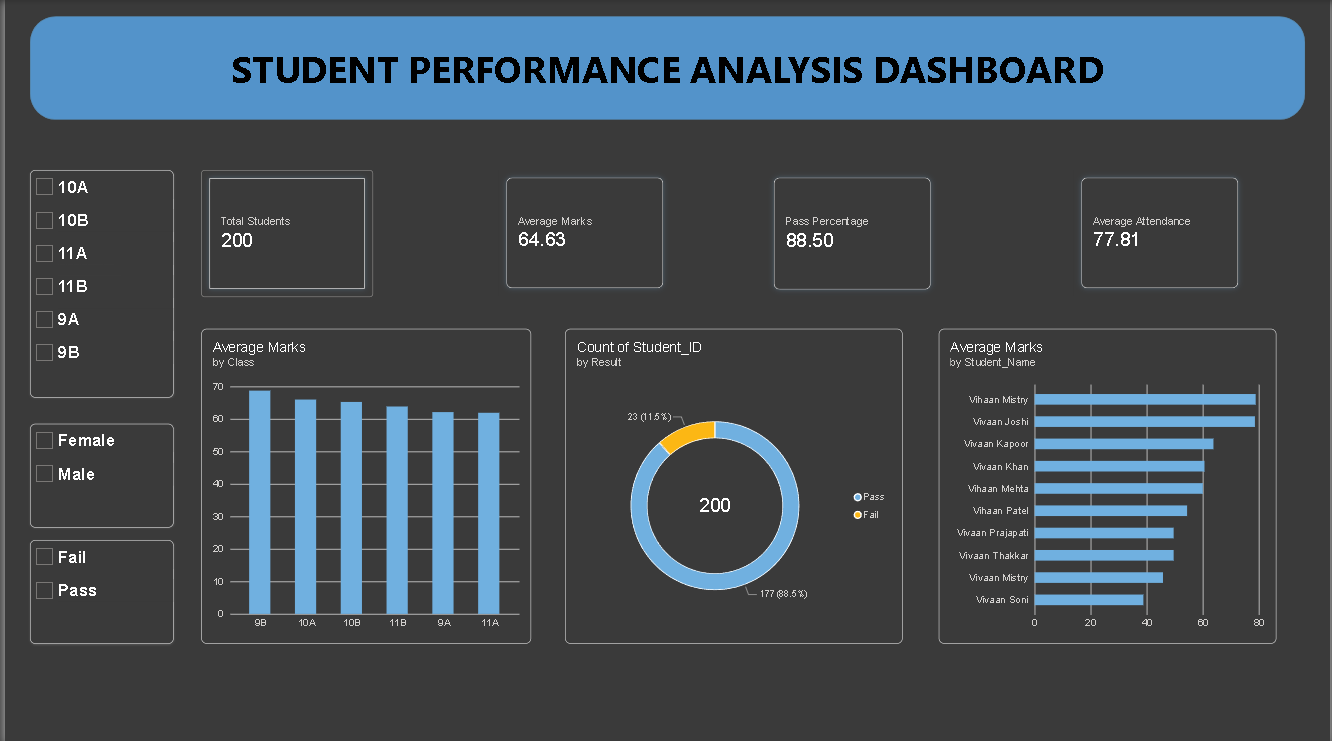

This screenshot's page, from the dashboard's own definition file:
{"tool":"powerbi","page":{"name":"Page 3","canvas":[1920,1080],"ordinal":2},"visuals":[{"type":"shape","box":[36.2,23.5,1846,150],"z":0},{"type":"cardVisual","fields":{"Data":["Student_Data.Total Students"]},"box":[284.1,246.1,249.7,184.6],"z":1000},{"type":"cardVisual","fields":{"Data":["Student_Data.Average Marks"]},"box":[714.8,246.1,249.7,182.8],"z":2000},{"type":"cardVisual","fields":{"Data":["Student_Data.Pass Percentage"]},"box":[1102.1,246.1,249.7,184.6],"z":3000},{"type":"cardVisual","fields":{"Data":["Student_Data.Average Attendance"]},"box":[1547.3,246.1,249.7,182.8],"z":4000},{"type":"clusteredColumnChart","fields":{"Category":["Student_Data.Class"],"Y":["Student_Data.Average Marks"]},"box":[284.1,475.9,477.8,456],"z":5000},{"type":"donutChart","fields":{"Category":["Student_Data.Result"],"Y":["CountNonNull(Student_Data.Student_ID)"]},"box":[810.7,475.9,488.6,456],"z":6000},{"type":"clusteredBarChart","fields":{"Category":["Student_Data.Student_Name"],"Y":["Student_Data.Average Marks"]},"box":[1351.8,475.9,488.6,456],"z":7000},{"type":"slicer","fields":{"Values":["Student_Data.Class"]},"box":[36.2,246.1,208.1,329.4],"z":8000},{"type":"slicer","fields":{"Values":["Student_Data.Gender"]},"box":[36.2,613.1,208.1,150.2],"z":9000},{"type":"slicer","fields":{"Values":["Student_Data.Result"]},"box":[36.2,781.8,208,150],"z":10000}]}

Visuals, with their boxes in screenshot pixels (x1, y1, x2, y2), scaled from the page's 1920x1080 canvas onto the 1332x741 screenshot:
shape: BBox(25, 16, 1306, 119)
cardVisual - Student_Data.Total Students: BBox(197, 169, 370, 296)
cardVisual - Student_Data.Average Marks: BBox(496, 169, 669, 294)
cardVisual - Student_Data.Pass Percentage: BBox(765, 169, 938, 296)
cardVisual - Student_Data.Average Attendance: BBox(1073, 169, 1247, 294)
clusteredColumnChart - Student_Data.Class x Student_Data.Average Marks: BBox(197, 327, 529, 639)
donutChart - Student_Data.Result x CountNonNull(Student_Data.Student_ID): BBox(562, 327, 901, 639)
clusteredBarChart - Student_Data.Student_Name x Student_Data.Average Marks: BBox(938, 327, 1277, 639)
slicer - Student_Data.Class: BBox(25, 169, 169, 395)
slicer - Student_Data.Gender: BBox(25, 421, 169, 524)
slicer - Student_Data.Result: BBox(25, 536, 169, 639)
